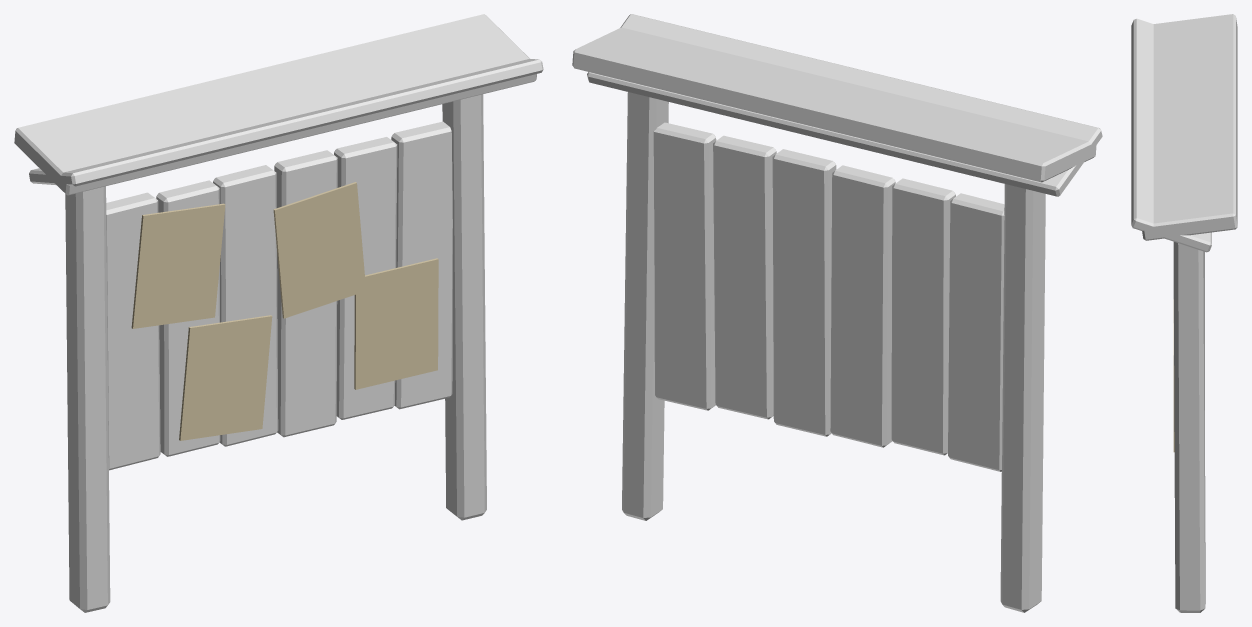
Rendered from NoticeBoard.fbx.
3 views of the same model, side by side, from view 1: azimuth 30°, elevation 25°; view 2: azimuth 150°, elevation 25°; view 3: azimuth 270°, elevation 25° (orthographic). The views are drawn at different scales.
Visible parts, largest first — view 1: NoticeBoard__wood_dark, NoticeBoard__wood_c, NoticeBoard__paper, NoticeBoard__wood_pale; view 2: NoticeBoard__wood_c, NoticeBoard__wood_dark, NoticeBoard__wood_pale; view 3: NoticeBoard__wood_dark, NoticeBoard__paper.
Boxes of the visible parts, x1,y1,x2,y2 form: NoticeBoard__wood_dark: (14,14,543,612); NoticeBoard__wood_c: (106,121,452,470); NoticeBoard__paper: (131,182,438,440); NoticeBoard__wood_pale: (156,180,220,456); NoticeBoard__wood_c: (653,122,1004,471); NoticeBoard__wood_dark: (572,14,1102,612); NoticeBoard__wood_pale: (891,178,955,455); NoticeBoard__wood_dark: (1131,14,1237,612); NoticeBoard__paper: (1173,299,1174,452).
Size of the model in its own units: 8 by 7.66 by 1.79.
